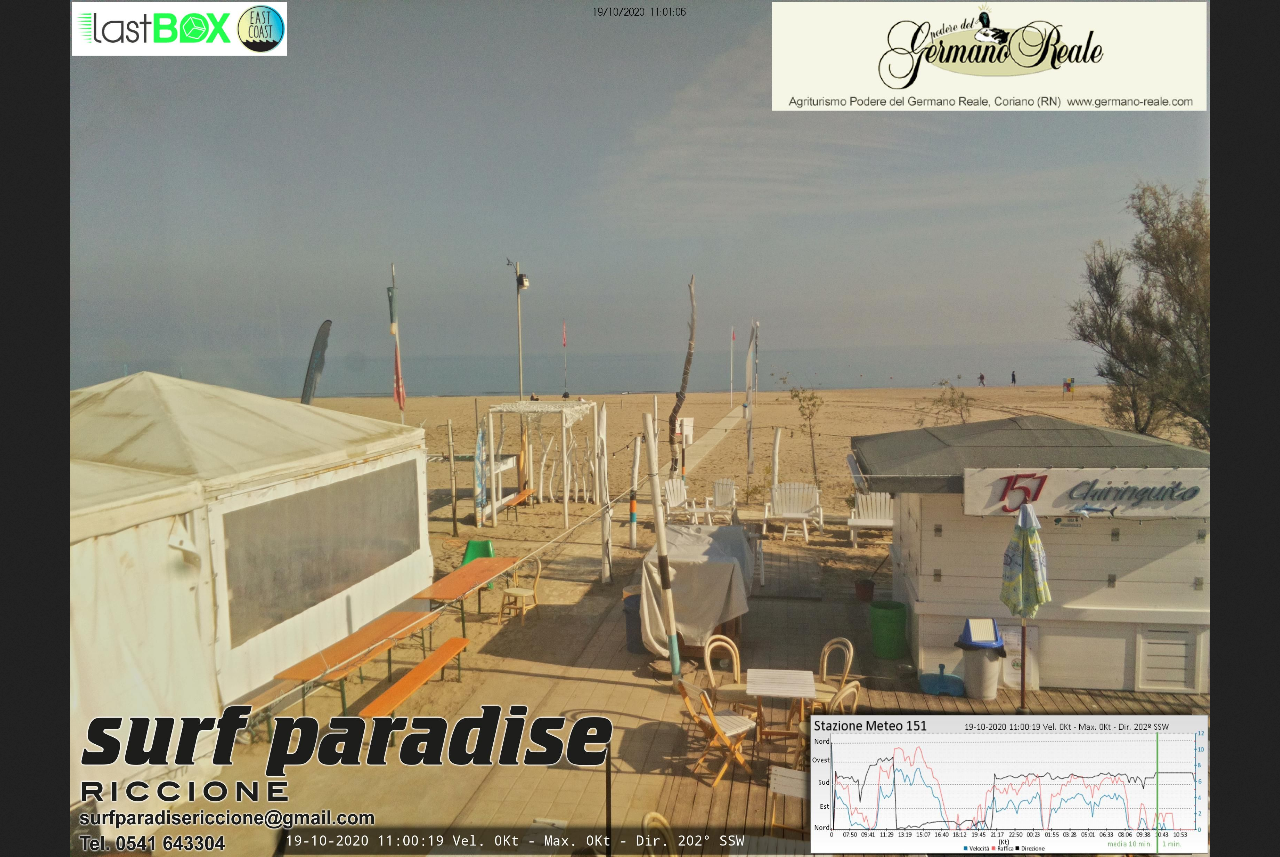no: (731, 328, 737, 345)
